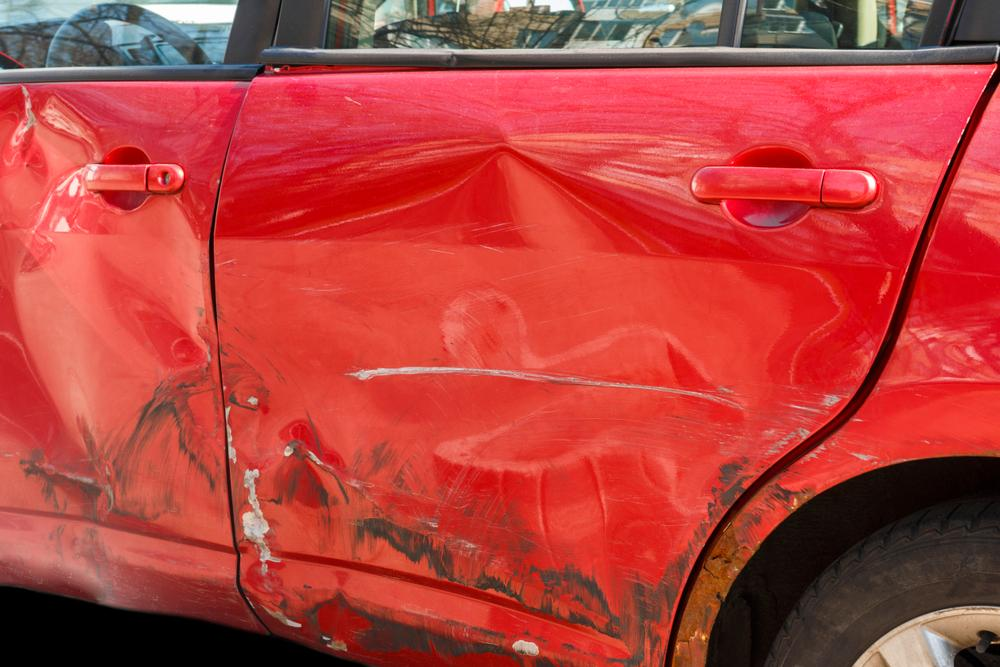dent: (226, 139, 795, 651), (0, 84, 211, 462)
scratch: (256, 477, 687, 667), (665, 421, 900, 667), (19, 366, 225, 586)
